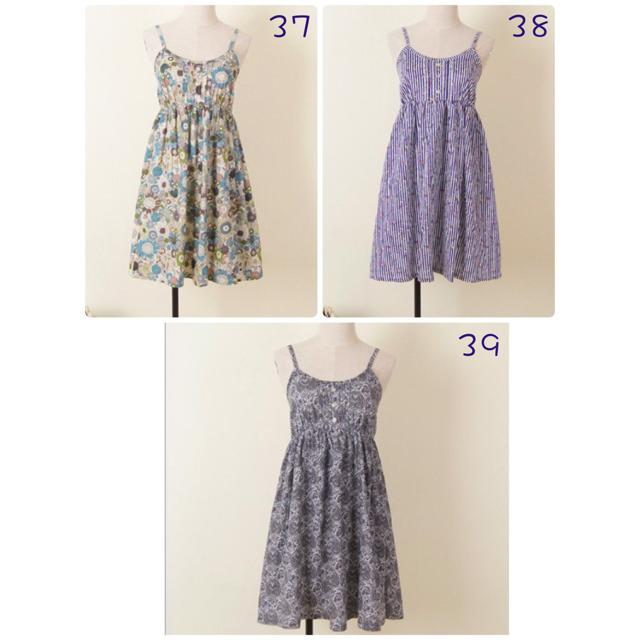Dresses: (256, 345, 406, 631), (127, 9, 264, 288), (369, 22, 503, 283)
